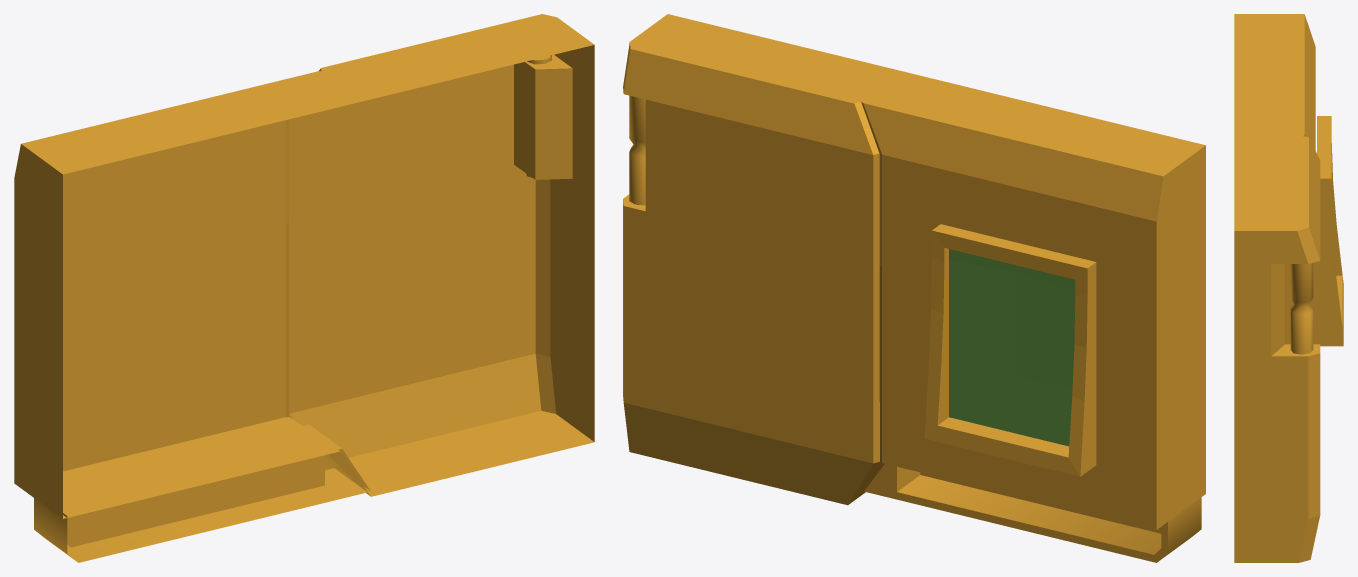
File: SM_CARD_DEVICE.fbx
3 renders of one model, left to right at view 1: azimuth 30°, elevation 25°; view 2: azimuth 150°, elevation 25°; view 3: azimuth 270°, elevation 25°, orthographic. The views are drawn at different scales.
Visible parts, largest first — view 1: SM_CARD_DEVICE; view 2: SM_CARD_DEVICE; view 3: SM_CARD_DEVICE.
Boxes of the visible parts, x1=… form: SM_CARD_DEVICE: x1=14, y1=14, x2=594, y2=562; SM_CARD_DEVICE: x1=623, y1=14, x2=1205, y2=562; SM_CARD_DEVICE: x1=1234, y1=14, x2=1343, y2=562.
Bounding box in the file's own units: 0.63 × 0.45 × 0.1341.
